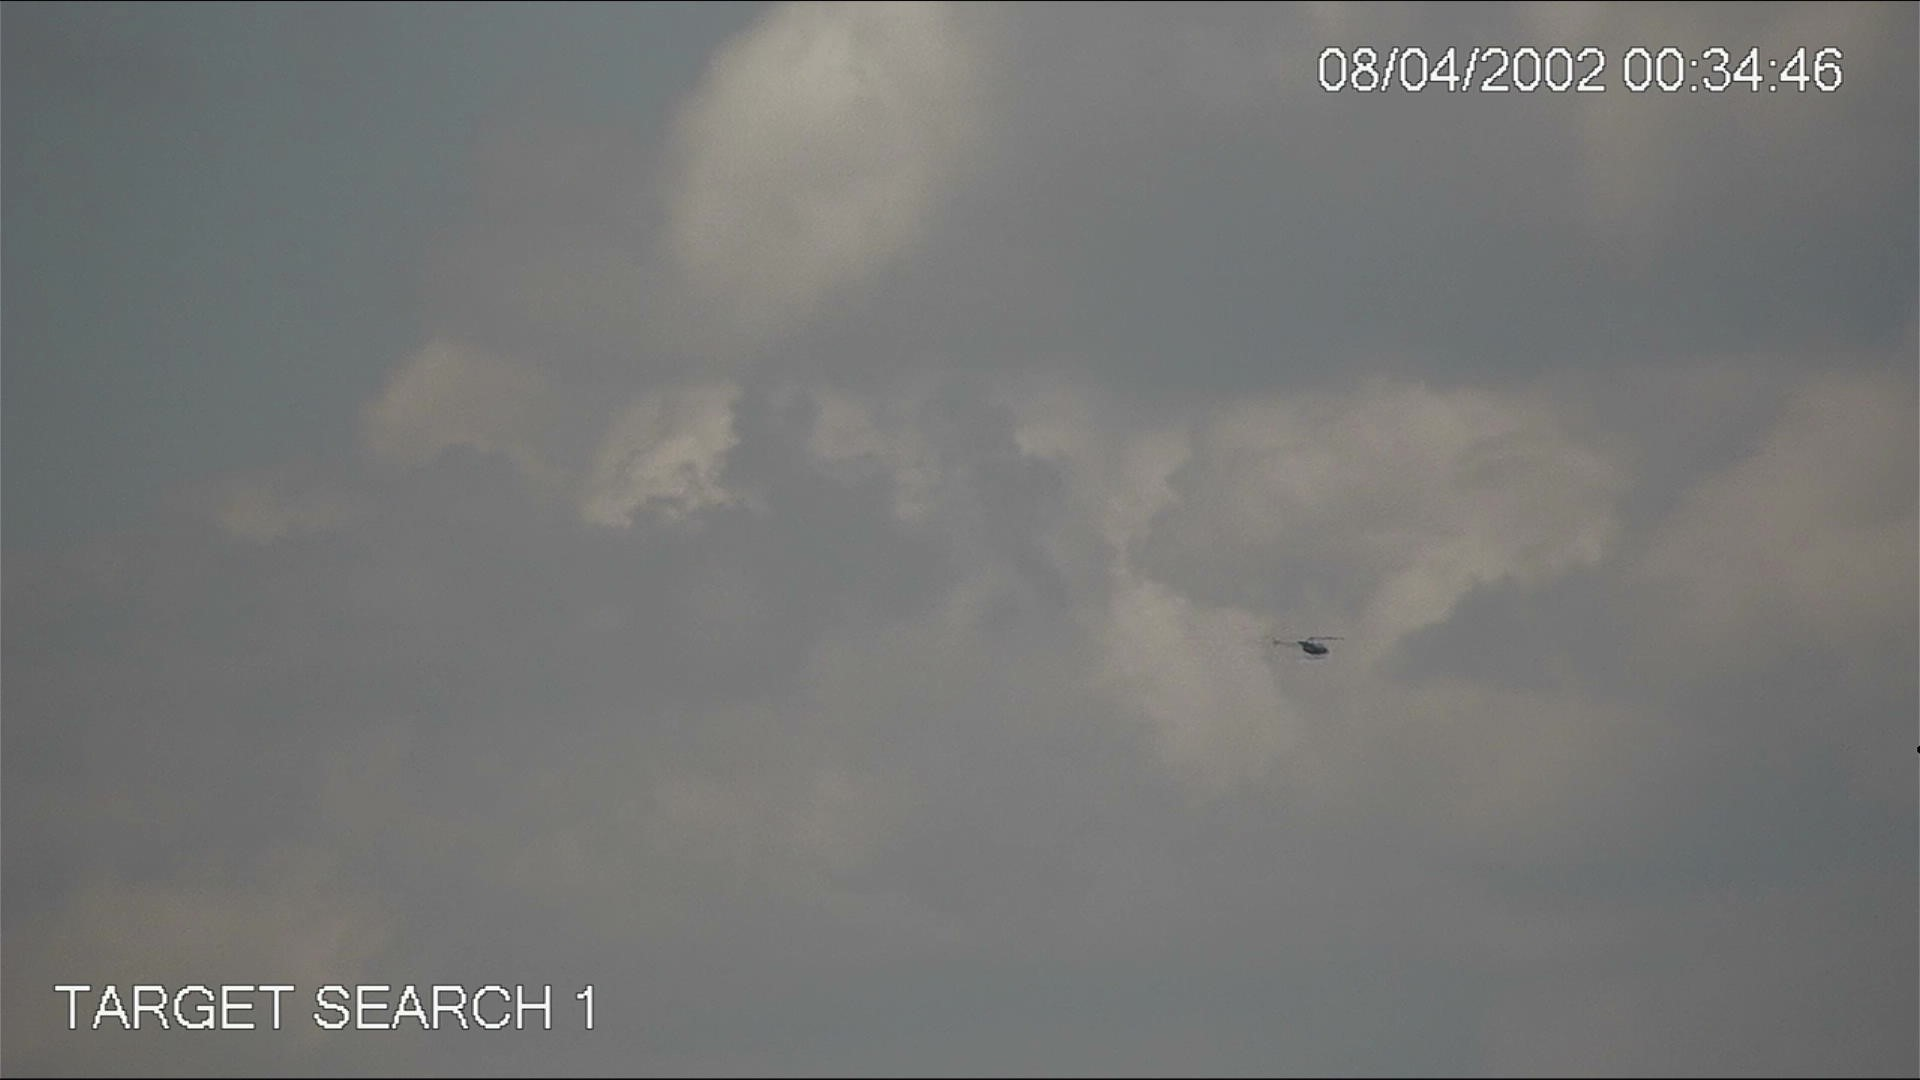SU_30: (1269, 629, 1342, 661)
